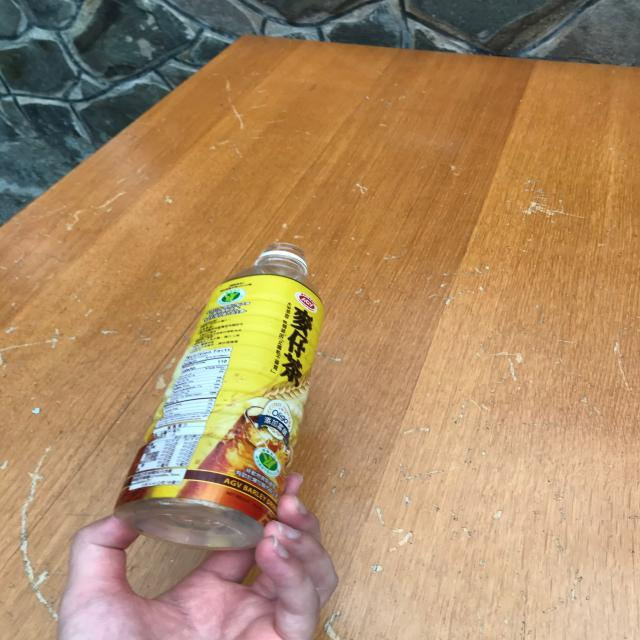plastic_bottle: (113, 244, 324, 550)
